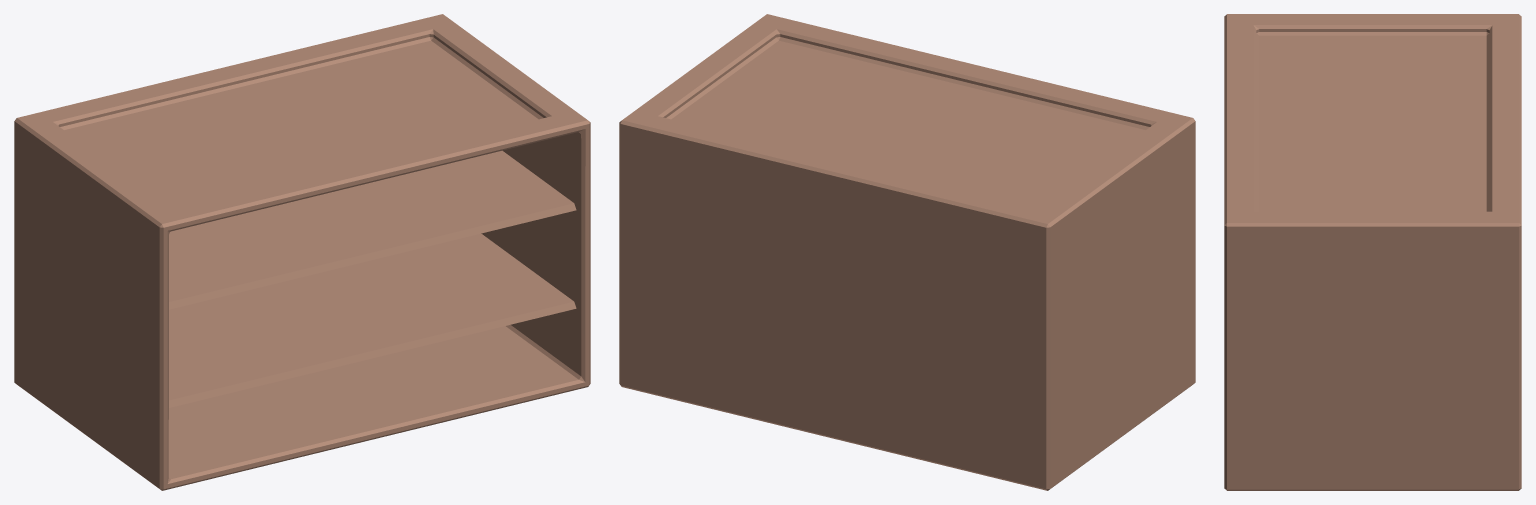
Rendered from Top Filing Cabinet.fbx.
The picture shows the model from 3 angles, left to right: view 1: azimuth 30°, elevation 25°; view 2: azimuth 150°, elevation 25°; view 3: azimuth 270°, elevation 25°; orthographic projection.
Visible parts, largest first — view 1: Top Filing Cabinet; view 2: Top Filing Cabinet; view 3: Top Filing Cabinet.
Part boxes in pixels (x1,y1,x2,y2): Top Filing Cabinet: (14, 14, 590, 490); Top Filing Cabinet: (619, 14, 1195, 490); Top Filing Cabinet: (1224, 14, 1521, 490).
Size of the model in its own units: 57.15 by 96.05 by 56.84.
